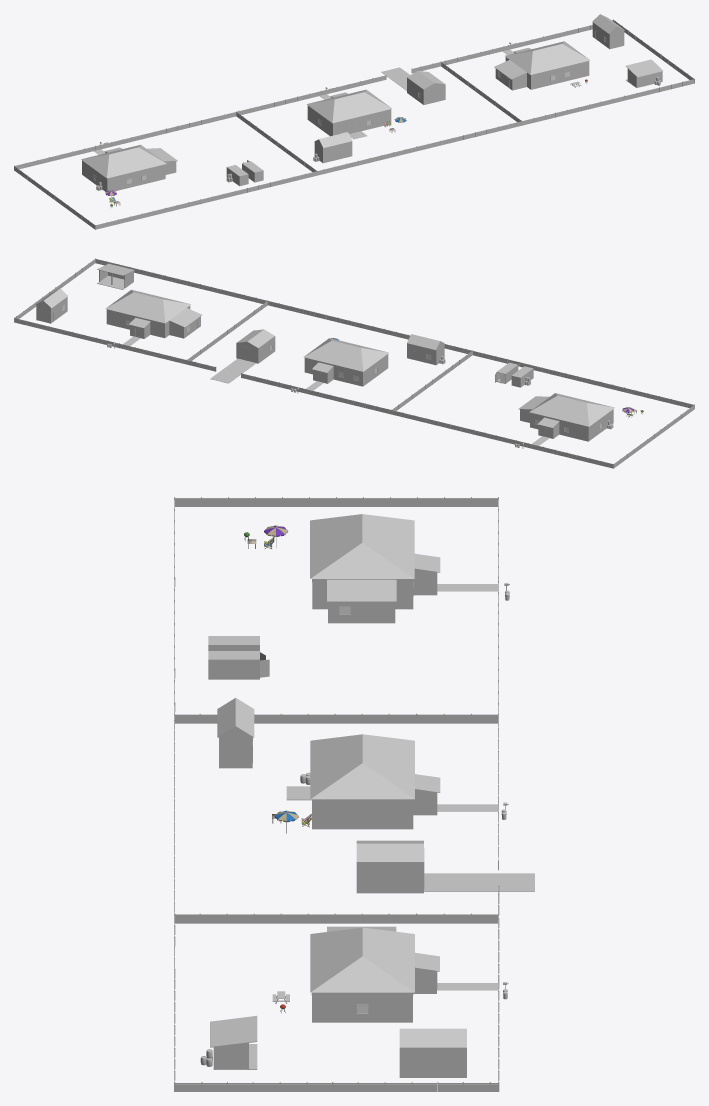
File: HauseHutor11.fbx
3 renders of one model, top to bottom at view 1: azimuth 30°, elevation 25°; view 2: azimuth 150°, elevation 25°; view 3: azimuth 270°, elevation 25°, orthographic. The views are drawn at different scales.
Parts seen in each view (by area): view 1: Zabor.062, Zabor.097, Zabor.073, RoofHause.011, RoofHause.004, RoofHause.012, HauseJ.009, HauseJ.010, Garaje.004, HauseJ.003, FermHaus.003, Barn.006 (+4 smaller); view 2: Zabor.097, Zabor.062, Zabor.073, RoofHause.011, RoofHause.012, RoofHause.004, HauseJ.010, HauseJ.009, Garaje.004, FermHaus.003, HauseJ.003, Cube.063 (+6 smaller); view 3: RoofHause.012, RoofHause.004, Zabor.062, RoofHause.011, Garaje.004, Zabor.073, Zabor.097, HauseJ.003, HauseJ.010, FermHaus.003, Barn.004, Cube.063 (+7 smaller).
Boxes of the visible parts, box(x1,y1,x2,y2) form: Zabor.062: box(236, 61, 522, 175); Zabor.097: box(14, 112, 317, 229); Zabor.073: box(442, 19, 694, 125); RoofHause.011: box(81, 144, 166, 178); RoofHause.004: box(505, 41, 590, 74); RoofHause.012: box(306, 89, 391, 123); HauseJ.009: box(82, 160, 165, 191); HauseJ.010: box(307, 105, 391, 136); Garaje.004: box(407, 71, 445, 104); HauseJ.003: box(505, 57, 589, 89); FermHaus.003: box(626, 59, 662, 87); Barn.006: box(314, 141, 352, 162); Zabor.097: box(391, 351, 694, 468); Zabor.062: box(186, 300, 472, 414); Zabor.073: box(14, 258, 266, 364); RoofHause.011: box(529, 393, 614, 426); RoofHause.012: box(303, 338, 388, 371); RoofHause.004: box(105, 289, 190, 323); HauseJ.010: box(304, 354, 388, 386); HauseJ.009: box(530, 409, 613, 441); Garaje.004: box(236, 329, 275, 363); FermHaus.003: box(97, 263, 134, 289); HauseJ.003: box(106, 305, 190, 337); Cube.063: box(210, 358, 256, 383); RoofHause.012: box(310, 734, 414, 799); RoofHause.004: box(310, 927, 414, 992); Zabor.062: box(174, 713, 499, 923); RoofHause.011: box(310, 514, 414, 578); Garaje.004: box(356, 840, 424, 892); Zabor.073: box(174, 915, 499, 1091); Zabor.097: box(174, 497, 498, 713); HauseJ.003: box(311, 992, 413, 1022); HauseJ.010: box(312, 799, 413, 828); FermHaus.003: box(210, 1016, 257, 1069); Barn.004: box(399, 1047, 466, 1077); Cube.063: box(424, 873, 534, 891).
Bounding box in the file's own units: 16437 × 701 × 4284.
